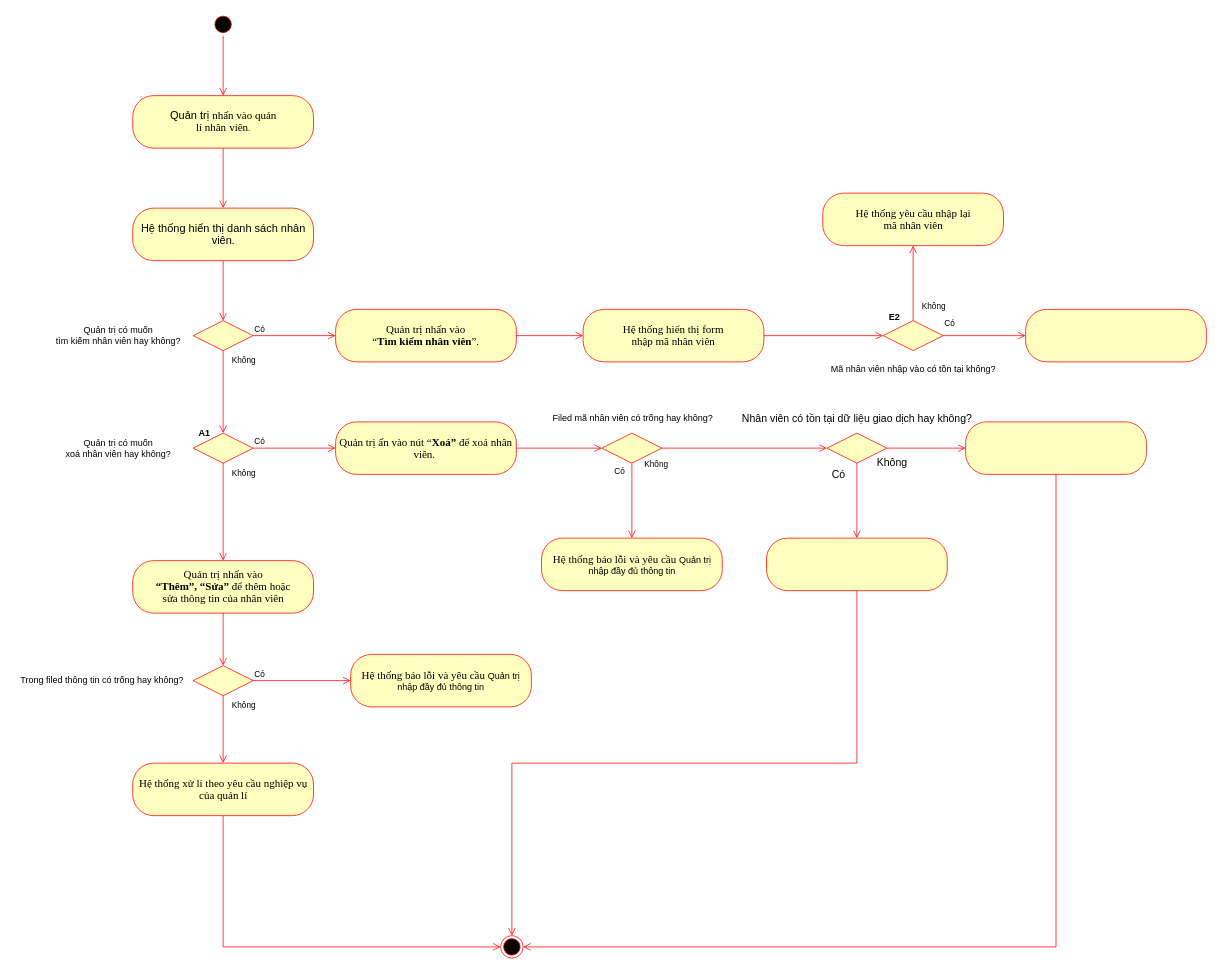
The diagram is 1220 pixels wide and 971 high, and some of its shapes have lost their labels. The shapes that lost their labels are listed below. From the top down, each one's centre as x and y in pixels, then its label:
At point 222,335: "A2".
At point 1115,335: "Hệ thống xuất thông tin của nhân viên.".
At point 631,447: "E3".
At point 1055,447: "Hệ thống xoá hoàn toàn đối tượng nhân viên".
At point 856,564: "Hệ thống chuyển đổi đối tượng trạng thái từ Online thành Offline".
At point 222,680: "E1".
